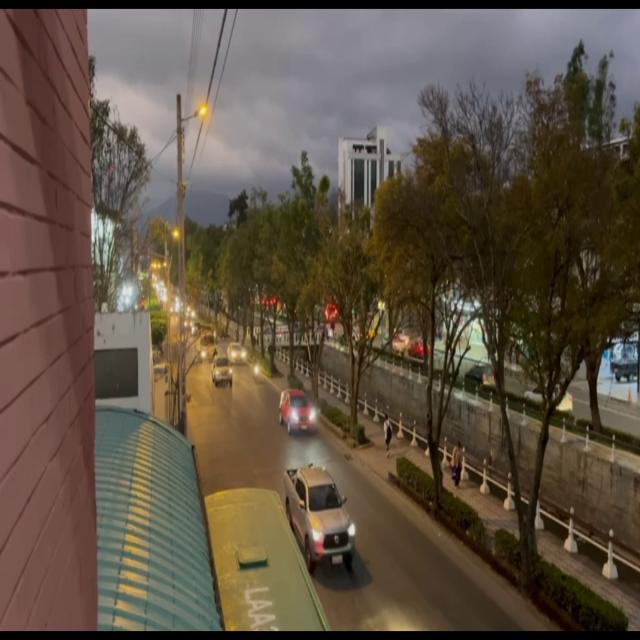CMT: (289, 472, 354, 570)
SUV: (282, 393, 312, 434)
